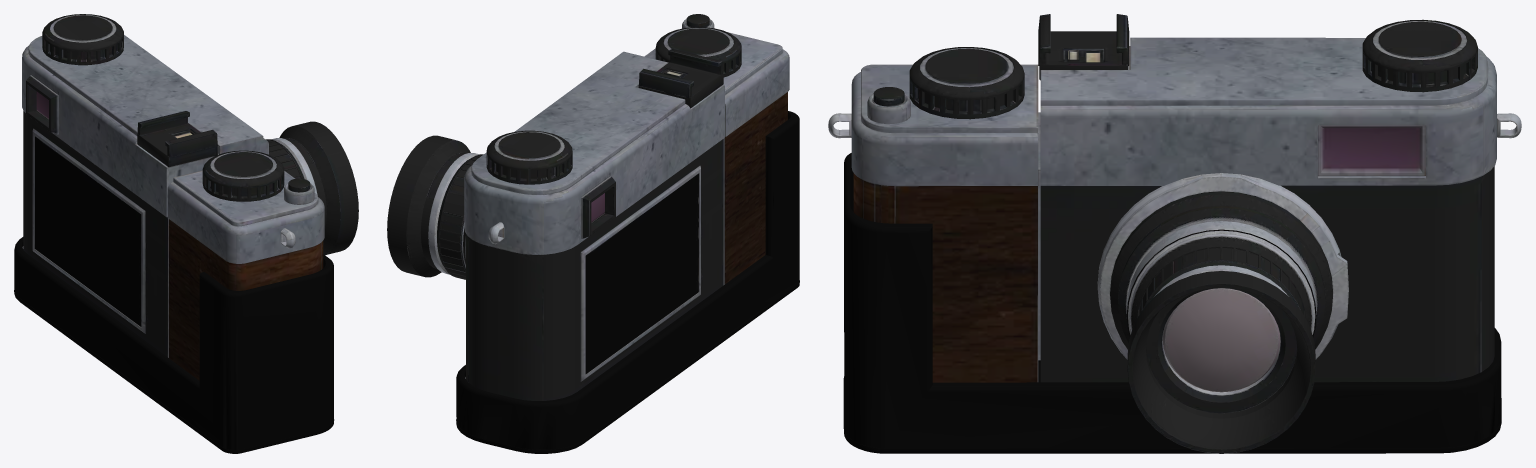
Rendered from rangefinder-camera.glb.
The picture shows the model from 3 angles, left to right: view 1: azimuth 30°, elevation 25°; view 2: azimuth 150°, elevation 25°; view 3: azimuth 270°, elevation 25°; orthographic projection. The views are drawn at different scales.
Parts seen in each view (by area): view 1: Object_0, Object_2, Object_1; view 2: Object_0, Object_2, Object_1; view 3: Object_0, Object_2, Object_1.
Boxes of the visible parts, box(x1,y1,x2,y2) form: Object_0: box(22, 14, 324, 380); Object_2: box(14, 237, 334, 453); Object_1: box(266, 121, 358, 255); Object_0: box(464, 14, 789, 400); Object_2: box(456, 111, 799, 453); Object_1: box(387, 135, 483, 279); Object_0: box(828, 14, 1521, 382); Object_2: box(843, 153, 1501, 453); Object_1: box(1110, 191, 1332, 453).
Size of the model in its own units: 0.0758 by 0.0841 by 0.14.
3 materials, 2 textured.
